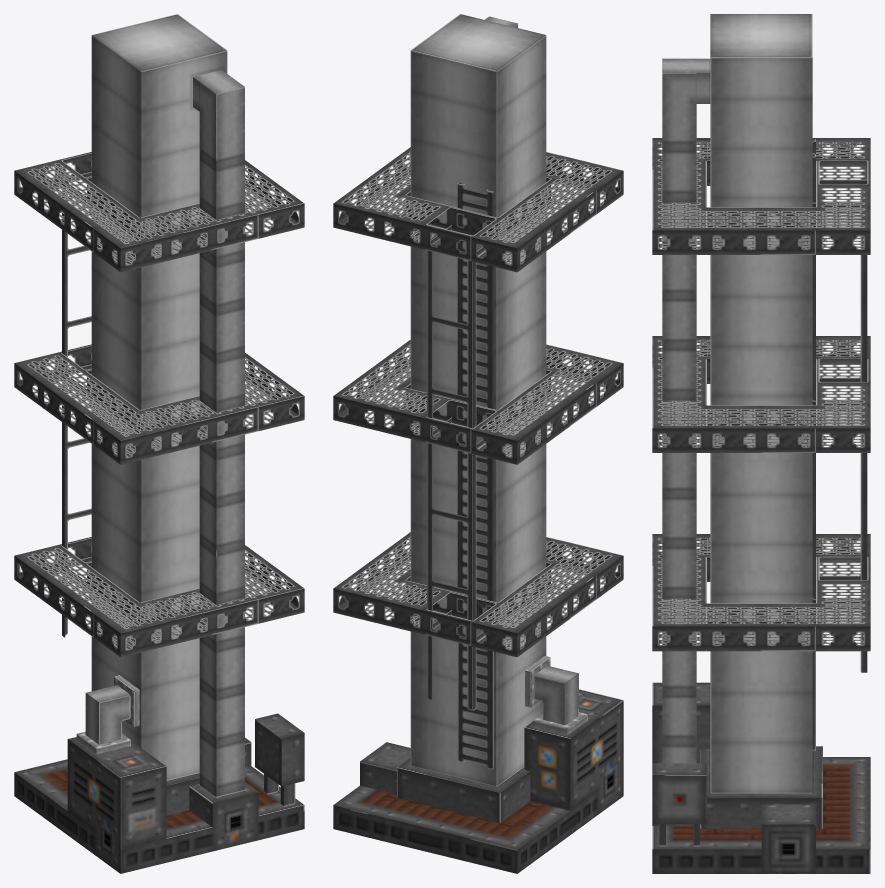
File: distillationtower_mirrored.obj
The picture shows the model from 3 angles, left to right: view 1: azimuth 30°, elevation 25°; view 2: azimuth 150°, elevation 25°; view 3: azimuth 270°, elevation 25°; orthographic projection. The views are drawn at different scales.
Visible parts, largest first — view 1: distillationtower_mirrored; view 2: distillationtower_mirrored; view 3: distillationtower_mirrored.
Boxes of the visible parts, x1=… form: distillationtower_mirrored: x1=14, y1=14, x2=304, y2=873; distillationtower_mirrored: x1=333, y1=14, x2=623, y2=873; distillationtower_mirrored: x1=652, y1=14, x2=870, y2=873.
Size of the model in its own units: 4 by 16 by 4.
